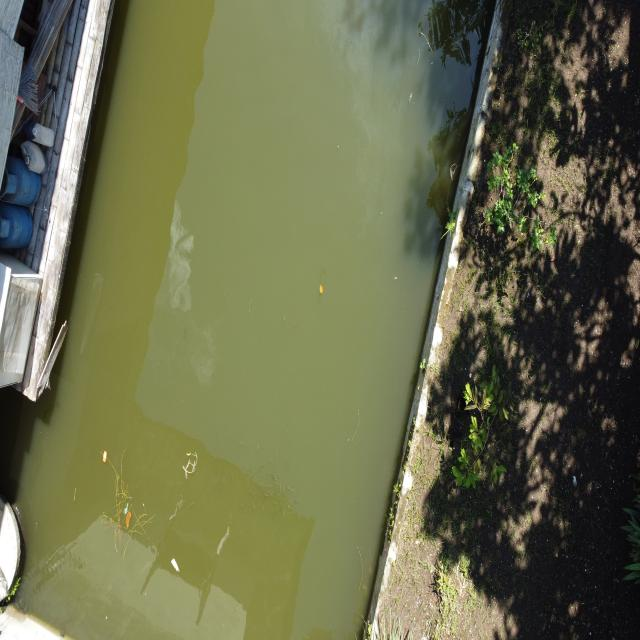Ponds: (2, 1, 512, 640)
